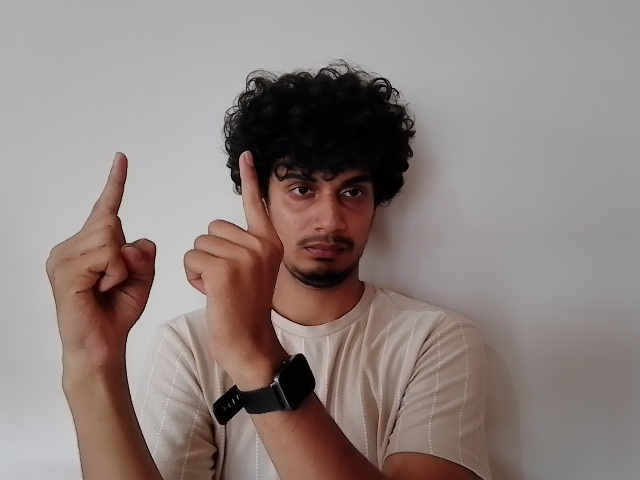play: (42, 151, 279, 356)
